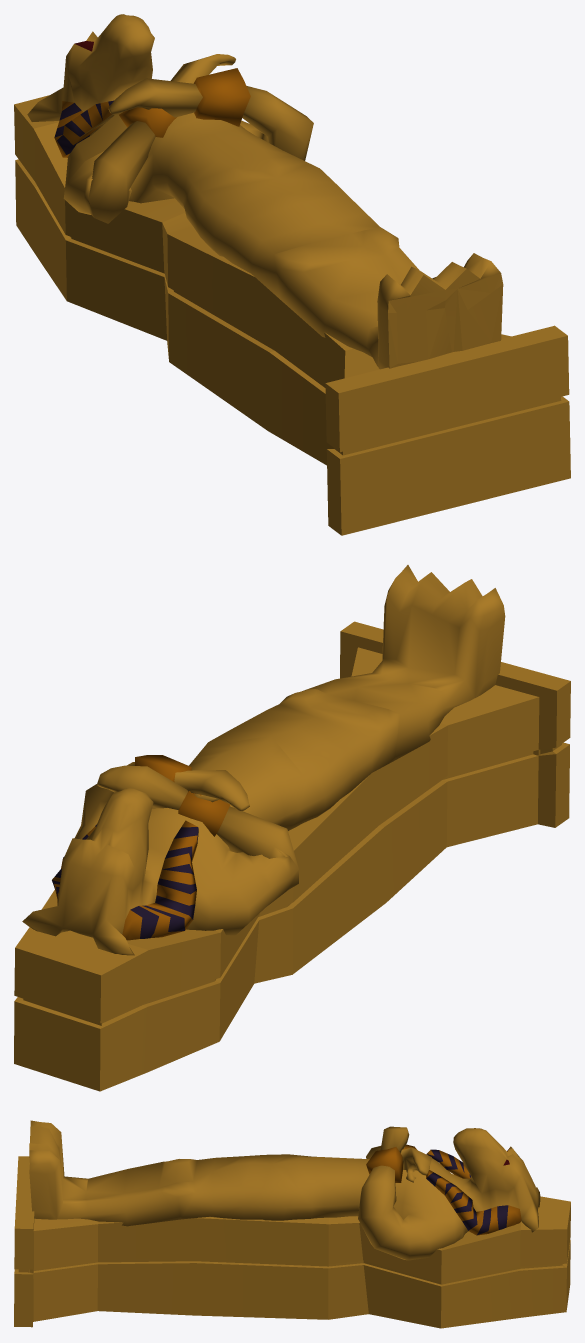
File: Sarcophagus.FBX
The picture shows the model from 3 angles, top to bottom: view 1: azimuth 30°, elevation 25°; view 2: azimuth 150°, elevation 25°; view 3: azimuth 270°, elevation 25°; orthographic projection. The views are drawn at different scales.
Parts seen in each view (by area): view 1: besouro; view 2: besouro; view 3: besouro.
Part boxes in pixels (box(x1,y1,x2,y2)): besouro: box(14, 14, 570, 535); besouro: box(14, 565, 570, 1091); besouro: box(14, 1120, 570, 1328).
Size of the model in its own units: 40.32 by 41.29 by 122.
